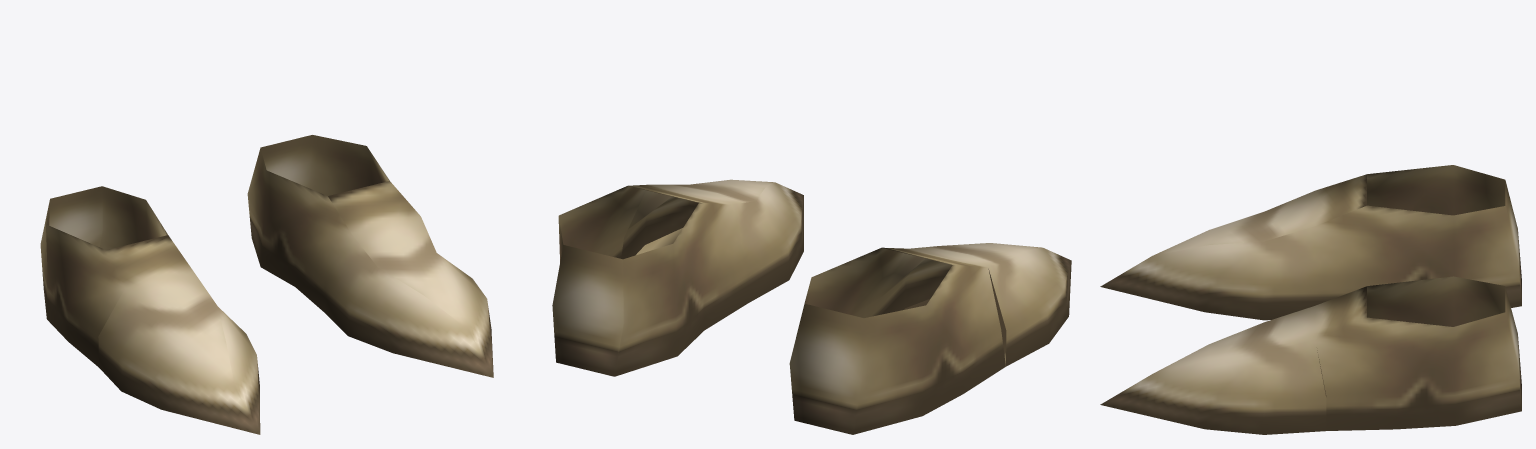
File: hum_caster_05_7179fd31.glb
3 renders of one model, left to right at view 1: azimuth 30°, elevation 25°; view 2: azimuth 150°, elevation 25°; view 3: azimuth 270°, elevation 25°, orthographic. The views are drawn at different scales.
Size of the model in its own units: 0.6398 by 0.3557 by 0.5726.
Materials: 1 (1 with a texture image).
